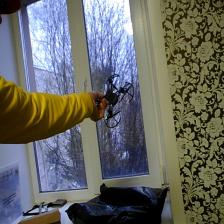drone: (87, 74, 134, 132)
